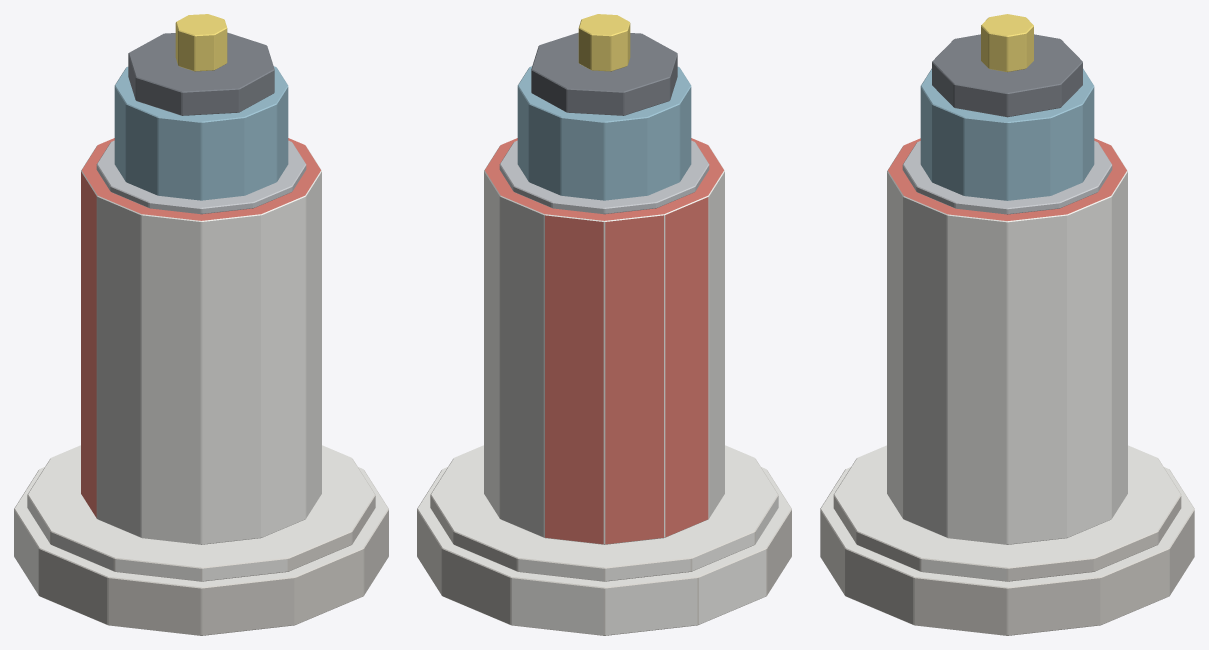
3 renders of one model, left to right at view 1: azimuth 30°, elevation 25°; view 2: azimuth 150°, elevation 25°; view 3: azimuth 270°, elevation 25°, orthographic.
Parts seen in each view (by area): view 1: 塔身.001, 基座, 灯室, 顶盖, 围栏, 顶灯.002; view 2: 塔身.001, 基座, 灯室, 顶盖, 围栏, 顶灯.002; view 3: 塔身.001, 基座, 灯室, 顶盖, 围栏, 顶灯.002.
Part boxes in pixels (left/top/right/bottom): 塔身.001: left=81, top=138, right=321, bottom=544; 基座: left=14, top=445, right=388, bottom=635; 灯室: left=114, top=66, right=288, bottom=200; 顶盖: left=128, top=32, right=274, bottom=115; 围栏: left=96, top=140, right=306, bottom=214; 顶灯.002: left=175, top=14, right=227, bottom=71; 塔身.001: left=484, top=138, right=724, bottom=544; 基座: left=417, top=445, right=791, bottom=635; 灯室: left=517, top=66, right=691, bottom=200; 顶盖: left=531, top=32, right=677, bottom=115; 围栏: left=499, top=140, right=709, bottom=214; 顶灯.002: left=578, top=14, right=630, bottom=71; 塔身.001: left=887, top=138, right=1127, bottom=544; 基座: left=820, top=445, right=1194, bottom=635; 灯室: left=920, top=68, right=1094, bottom=200; 顶盖: left=932, top=34, right=1082, bottom=117; 围栏: left=902, top=141, right=1112, bottom=214; 顶灯.002: left=981, top=14, right=1033, bottom=72.
Bounding box in the file's own units: 839 × 1315 × 839.
